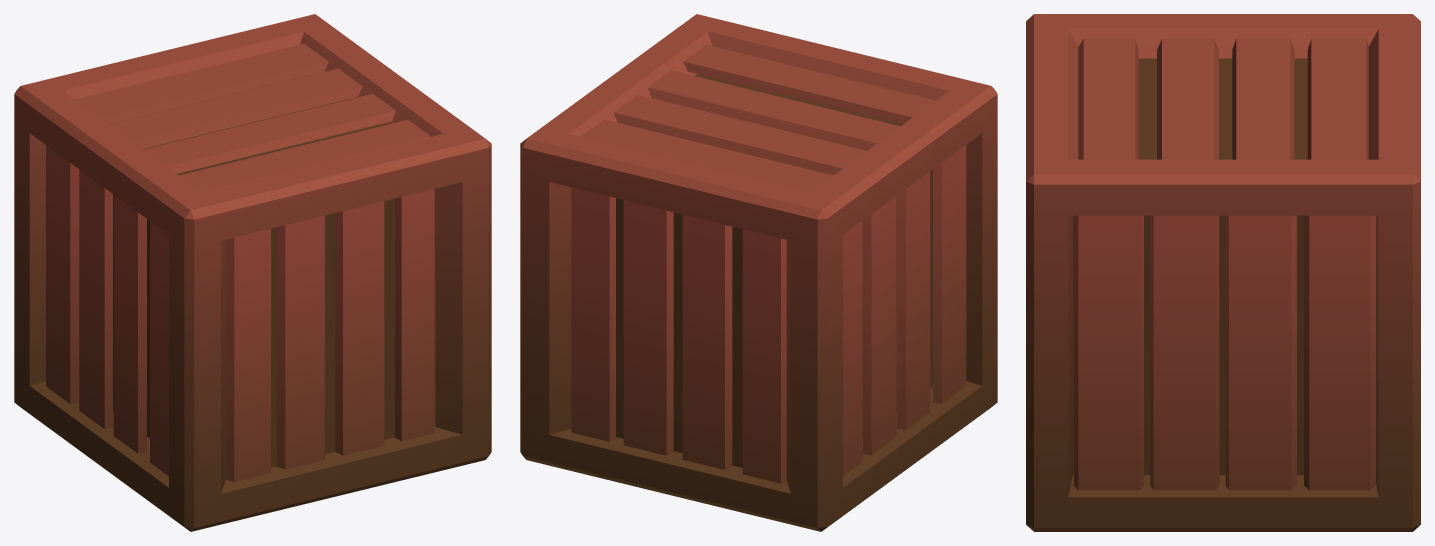
Rendered from Crate.fbx.
The picture shows the model from 3 angles, left to right: view 1: azimuth 30°, elevation 25°; view 2: azimuth 150°, elevation 25°; view 3: azimuth 270°, elevation 25°; orthographic projection. The views are drawn at different scales.
Parts seen in each view (by area): view 1: Crate; view 2: Crate; view 3: Crate.
Part boxes in pixels (x1,y1,x2,y2): Crate: (14,14,491,531); Crate: (520,14,997,531); Crate: (1026,14,1420,531).
Size of the model in its own units: 1 by 1 by 1.
